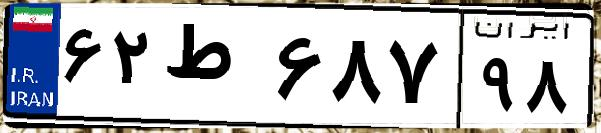2: (110, 28, 158, 98)
6: (270, 28, 330, 110), (57, 26, 110, 100)
7: (385, 28, 445, 110)
8: (330, 28, 385, 110), (525, 38, 570, 115)
9: (475, 38, 525, 113)
ط: (158, 20, 270, 120)
